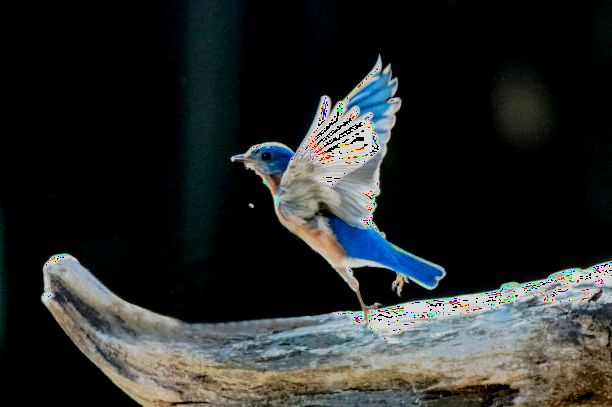Bird: (229, 51, 449, 323)
